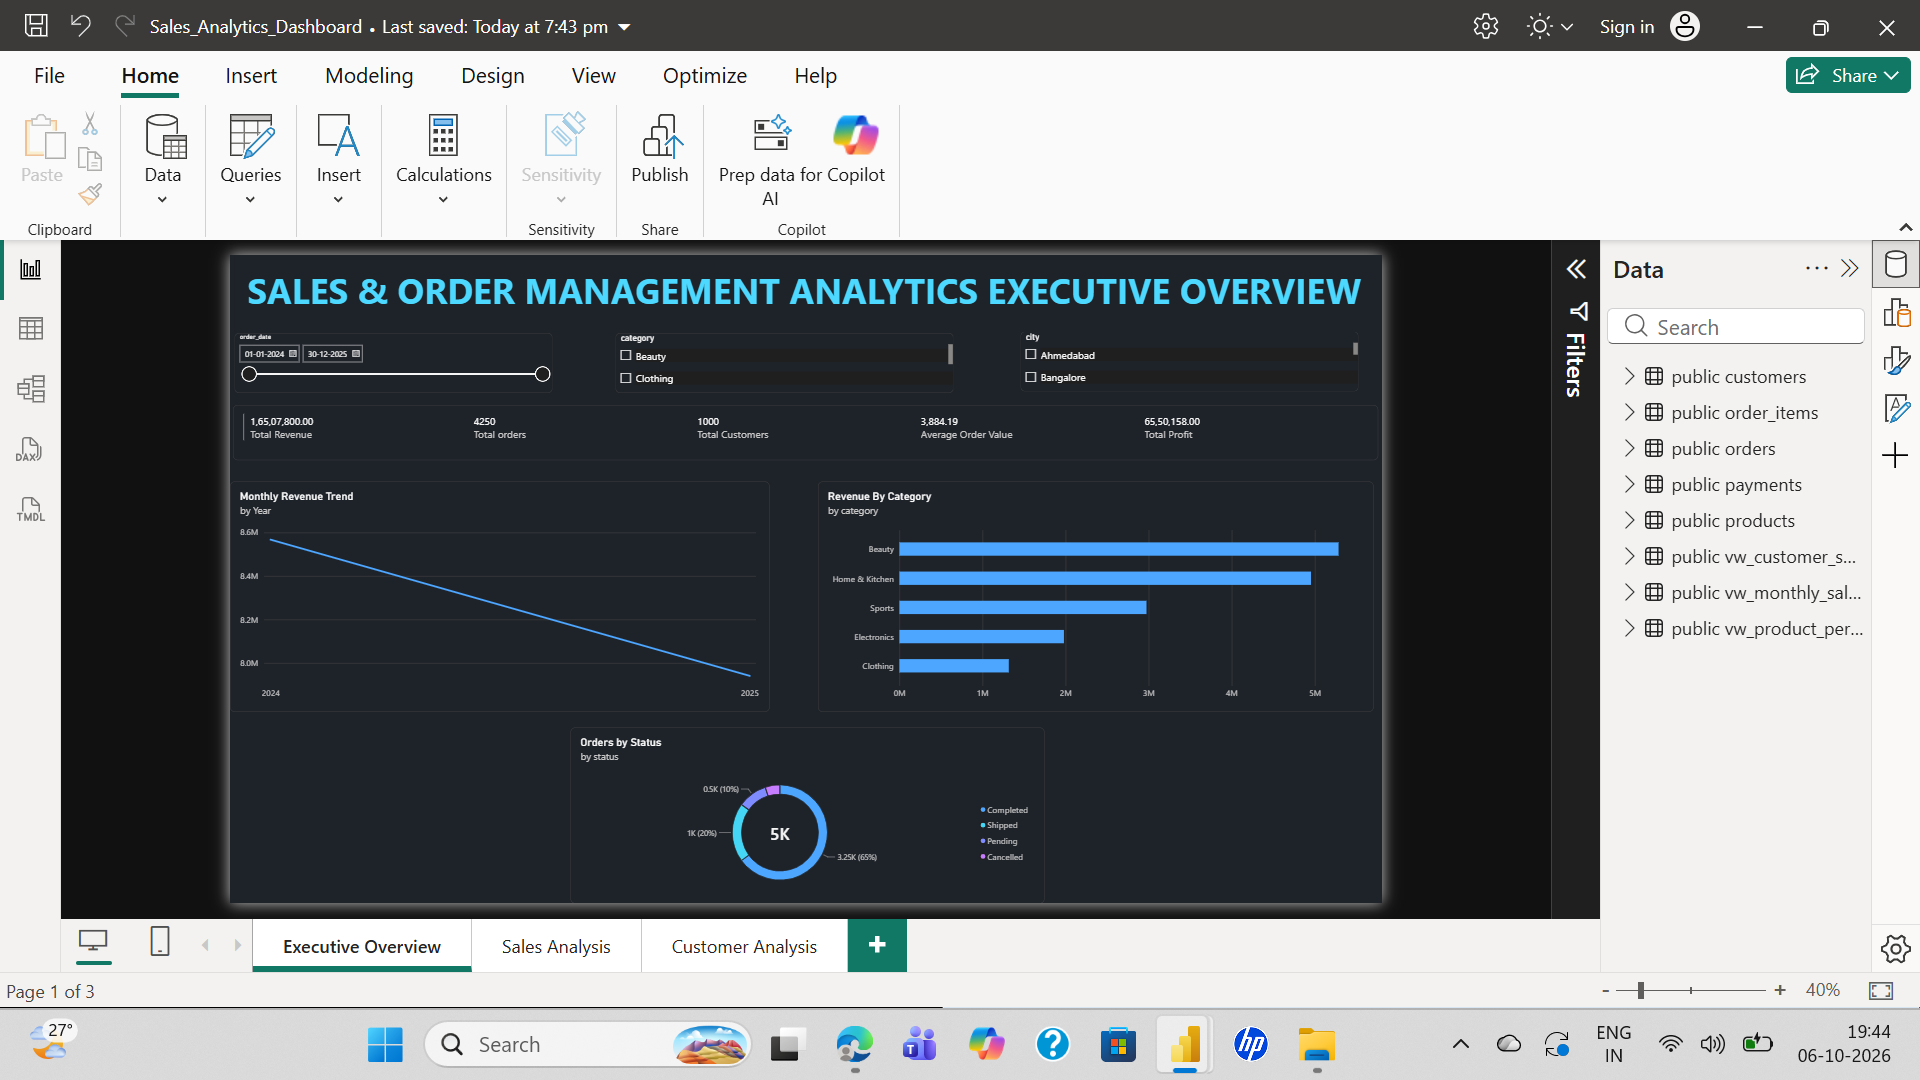

Layout of this report page (visuals, bound fields, positions):
{"tool":"powerbi","page":{"name":"Executive Overview","canvas":[1920,1080],"ordinal":0},"visuals":[{"type":"multiRowCard","title":"SALES & ORDER MANAGEMENT ANALYTICS EXECUTIVE OVERVIEW","fields":{"Values":["public customers.Total Revenue","public customers.Total orders","public customers.Total Customers","public customers.Average Order Value","public customers.Total Profit"]},"box":[4.8,250.5,1908.3,91.7],"z":0},{"type":"lineChart","fields":{"Category":["public orders.order_date.Variation.Date Hierarchy.Year","public orders.order_date.Variation.Date Hierarchy.Quarter","public orders.order_date.Variation.Date Hierarchy.Month","public orders.order_date.Variation.Date Hierarchy.Day"],"Y":["public customers.Total Revenue"]},"box":[0,377,899.5,384.1],"z":1000},{"type":"clusteredBarChart","fields":{"Category":["public products.category"],"Y":["public customers.Total Revenue"]},"box":[980.6,377,925.7,384.1],"z":2000},{"type":"donutChart","fields":{"Category":["public orders.status"],"Y":["CountNonNull(public orders.order_id)"]},"box":[567.8,787.4,789.7,293.5],"z":3000},{"type":"slicer","fields":{"Values":["public orders.order_date"]},"box":[7.2,128.8,530,100],"z":4000},{"type":"slicer","fields":{"Values":["public products.category"]},"box":[641.8,128.8,563.3,100],"z":5000},{"type":"slicer","fields":{"Values":["public customers.city"]},"box":[1318.5,127.6,563.3,100],"z":6000},{"type":"textbox","box":[7.2,0,1899.2,128.8],"z":7000}]}

Visuals, with their boxes on the page's 1920x1080 design canvas (x1, y1, x2, y2). These are canvas units, not pixel positions in the 1920x1080 screenshot, which may show the page scaled, cropped or inside an application window:
"SALES & ORDER MANAGEMENT ANALYTICS EXECUTIVE OVERVIEW" multiRowCard: x1=5 y1=250 x2=1913 y2=342
lineChart - public orders.order_date.Variation.Date Hierarchy.Year x public orders.order_date.Variation.Date Hierarchy.Quarter: x1=0 y1=377 x2=900 y2=761
clusteredBarChart - public products.category x public customers.Total Revenue: x1=981 y1=377 x2=1906 y2=761
donutChart - public orders.status x CountNonNull(public orders.order_id): x1=568 y1=787 x2=1358 y2=1081
slicer - public orders.order_date: x1=7 y1=129 x2=537 y2=229
slicer - public products.category: x1=642 y1=129 x2=1205 y2=229
slicer - public customers.city: x1=1318 y1=128 x2=1882 y2=228
textbox: x1=7 y1=0 x2=1906 y2=129
